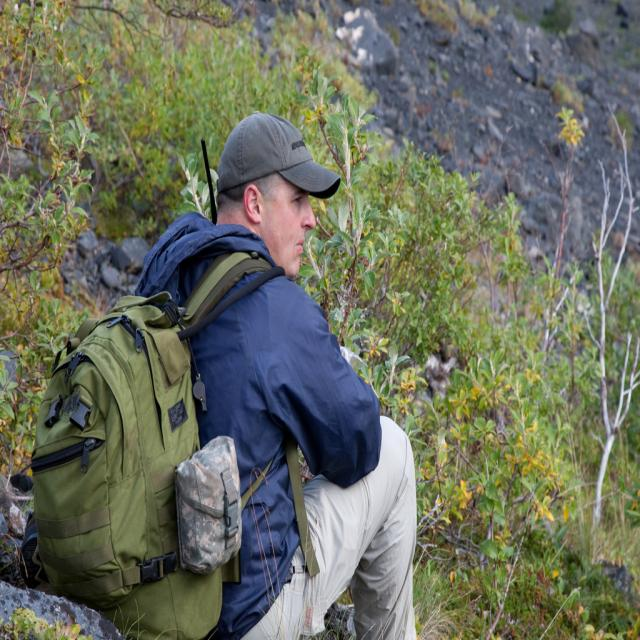backpack: (31, 252, 288, 632)
